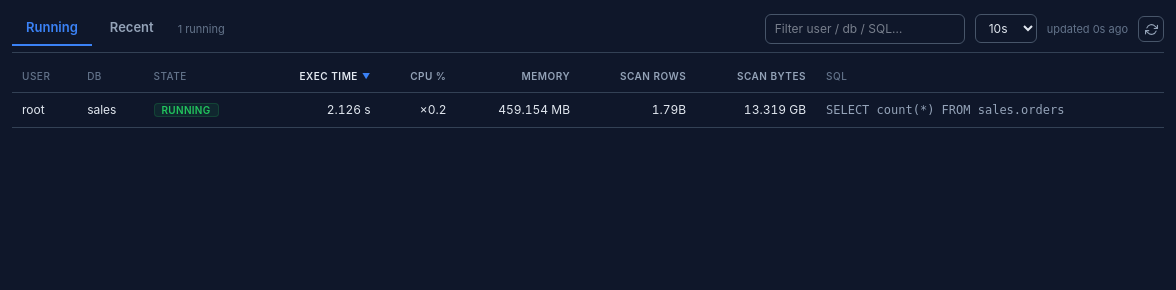
Test: QueriesPanel › clicking a row expands the detail with full SQL and query id
Check: the table with test id "queries-table" is shown, box x1=12 y1=60 x2=1164 y2=128
Click the row with test id "query-row": (588, 110) x1=12 y1=92 x2=1164 y2=127
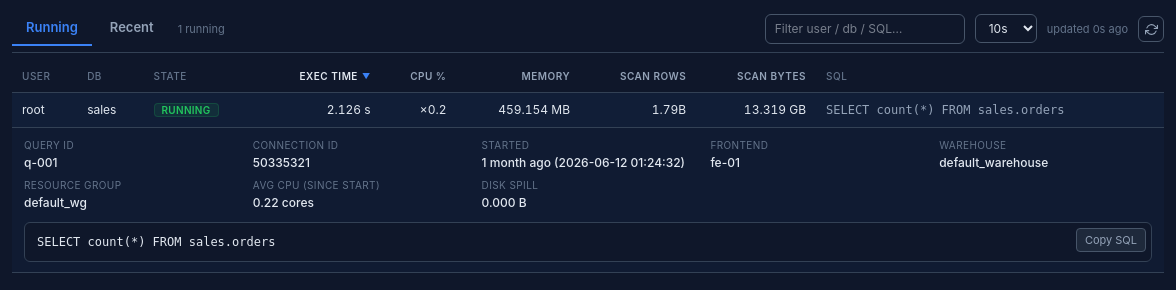
Check: the text "Query ID" is shown, box x1=24 y1=138 x2=74 y2=150
Check: the text "q-001" is shown, box x1=24 y1=154 x2=58 y2=170
Check: the button "Copy SQL" is shown, box x1=1076 y1=228 x2=1146 y2=252
